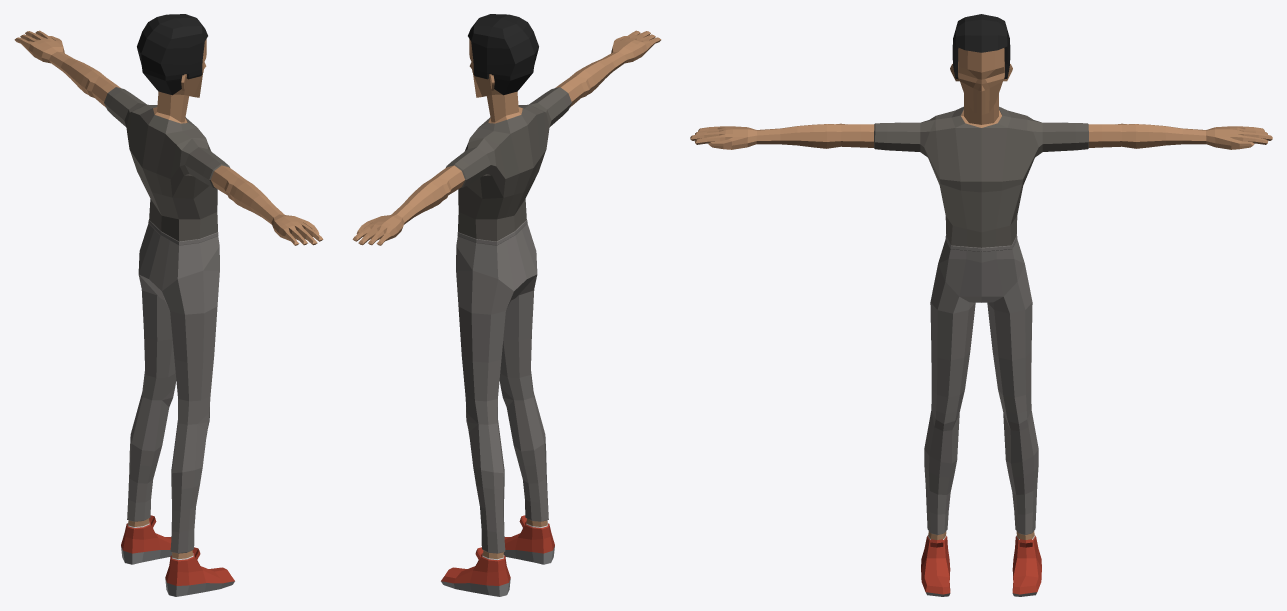
Rendered from user3D_1.glb.
3 views of the same model, side by side, from view 1: azimuth 30°, elevation 25°; view 2: azimuth 150°, elevation 25°; view 3: azimuth 270°, elevation 25° (orthographic).
Visible parts, largest first — view 1: character_m_1; view 2: character_m_1; view 3: character_m_1.
Boxes of the visible parts, x1,y1,x2,y2 form: character_m_1: [14, 14, 323, 596]; character_m_1: [352, 14, 661, 596]; character_m_1: [690, 14, 1272, 596].
Size of the model in its own units: 0.232 by 1.76 by 1.65.
Materials: 1 (1 with a texture image).
